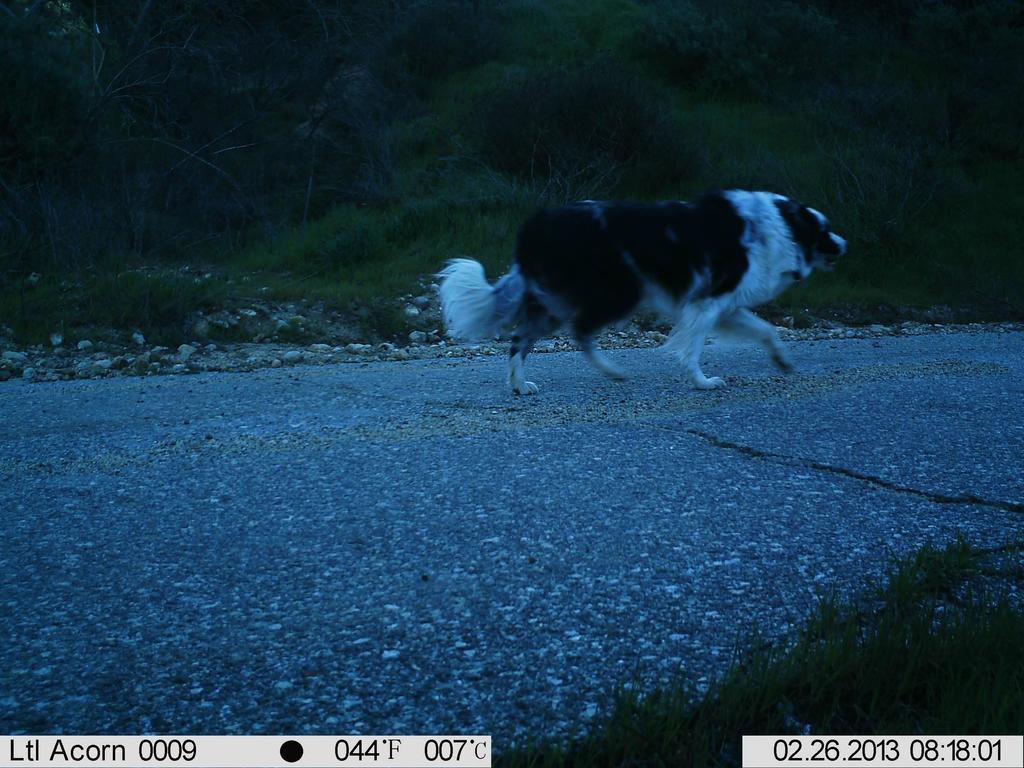dog: (433, 182, 854, 405)
